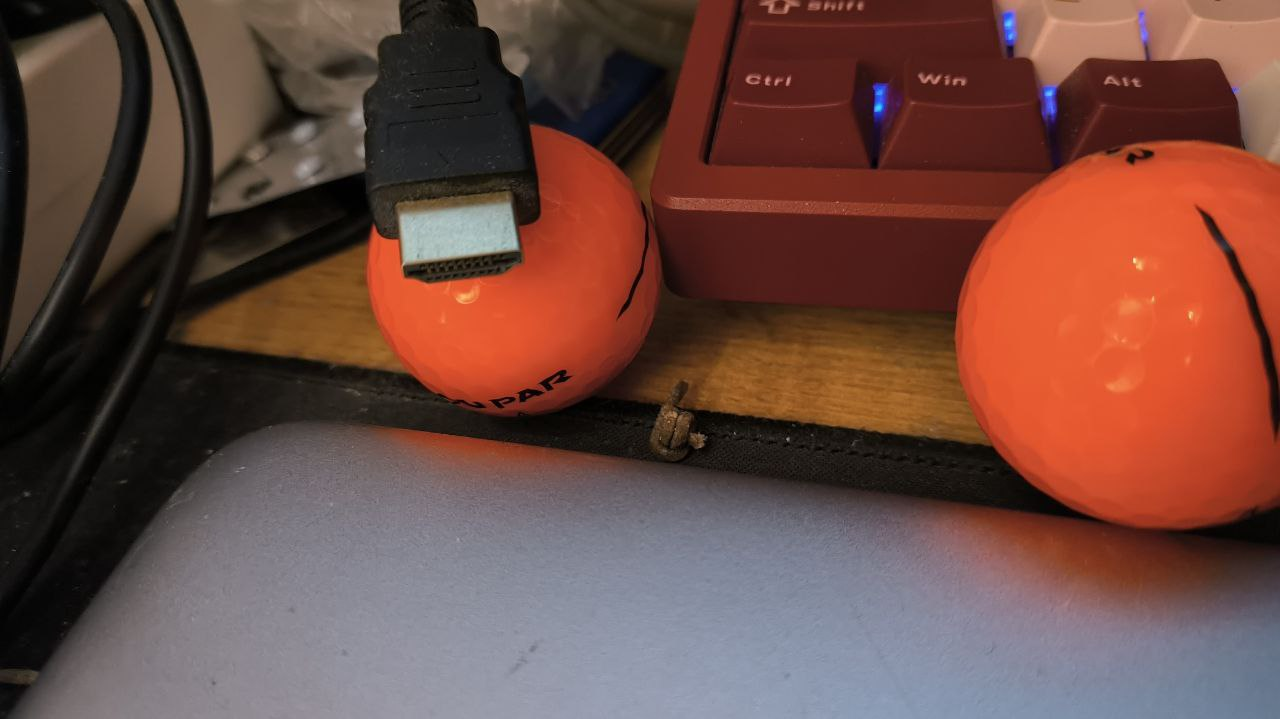orange_ball: (954, 140, 1280, 530), (365, 123, 660, 416)
